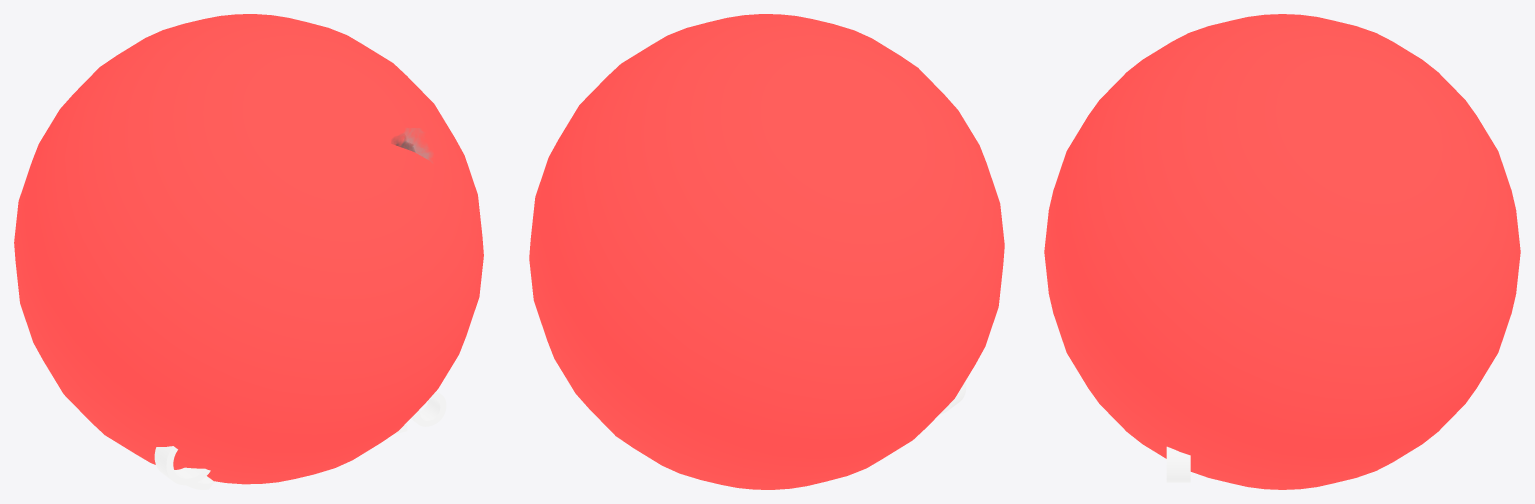
The model's file is radiador-quebrado.glb.
The picture shows the model from 3 angles, left to right: view 1: azimuth 30°, elevation 25°; view 2: azimuth 150°, elevation 25°; view 3: azimuth 270°, elevation 25°; orthographic projection.
Parts seen in each view (by area): view 1: Sphere.030, Text.031, Plane.006; view 2: Sphere.030; view 3: Sphere.030, Text.031.
Boxes of the visible parts, x1=… form: Sphere.030: x1=14, y1=14, x2=483, y2=484; Text.031: x1=154, y1=391, x2=446, y2=489; Plane.006: x1=392, y1=128, x2=432, y2=160; Sphere.030: x1=529, y1=14, x2=1004, y2=489; Sphere.030: x1=1044, y1=14, x2=1520, y2=489; Text.031: x1=1166, y1=446, x2=1190, y2=482.
Size of the model in its own units: 5.15 by 5.15 by 5.15.
Materials: 5 (1 with a texture image).
